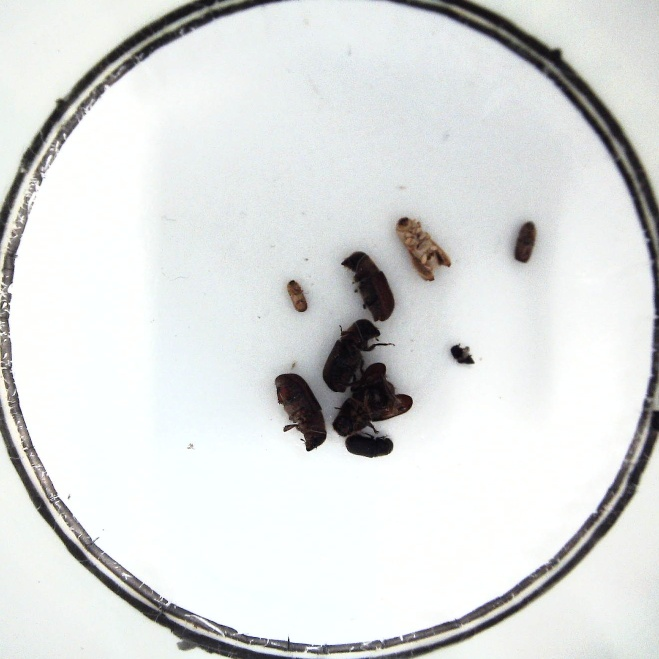acuminatus: (284, 278, 307, 312)
armandi: (342, 431, 394, 461)
boerner: (394, 215, 451, 284)
coleoptera: (449, 343, 475, 365)
leconte: (333, 363, 412, 435), (273, 371, 328, 453), (342, 249, 397, 321), (324, 319, 380, 389)
linnaeus: (514, 218, 537, 264)
